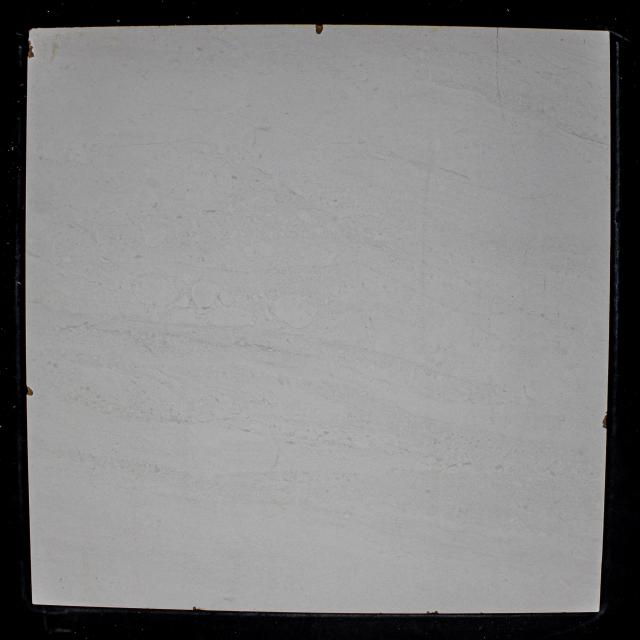edge-chipping: (26, 40, 35, 59), (315, 23, 324, 35), (26, 386, 34, 396), (602, 414, 607, 429), (426, 610, 439, 614), (192, 606, 198, 611)
line: (502, 110, 518, 165), (495, 24, 502, 109)
